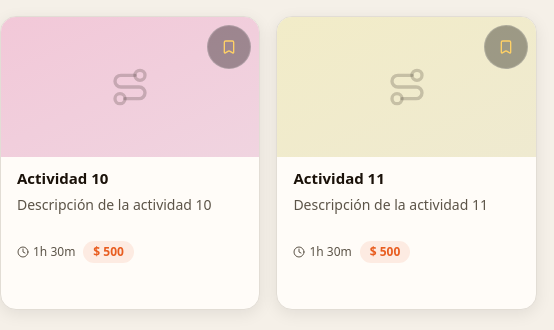
Scenario: SavedActivitiesPanel (CU39 + CU41) › removes a card from the list when its activity is unsaved (CU41)
The width and height of the screenshot is (554, 330).
Expected: the heading "Actividad 10" is shown, [17, 168, 108, 188]
Expected: the heading "Actividad 11" is shown, [293, 168, 385, 188]
Step 1. Click the 1st button named "Quitar de guardados" → (229, 47), box [207, 25, 251, 69]
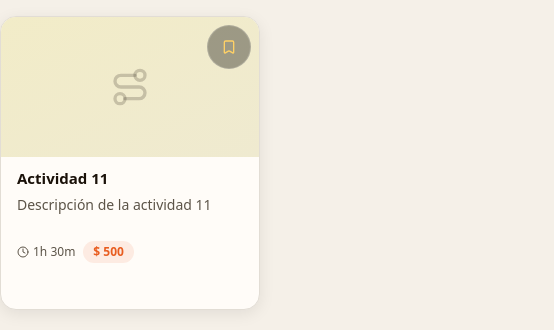
Expected: the heading "Actividad 11" is shown, [17, 168, 108, 188]
Expected: the link "Actividad 10" is gone
